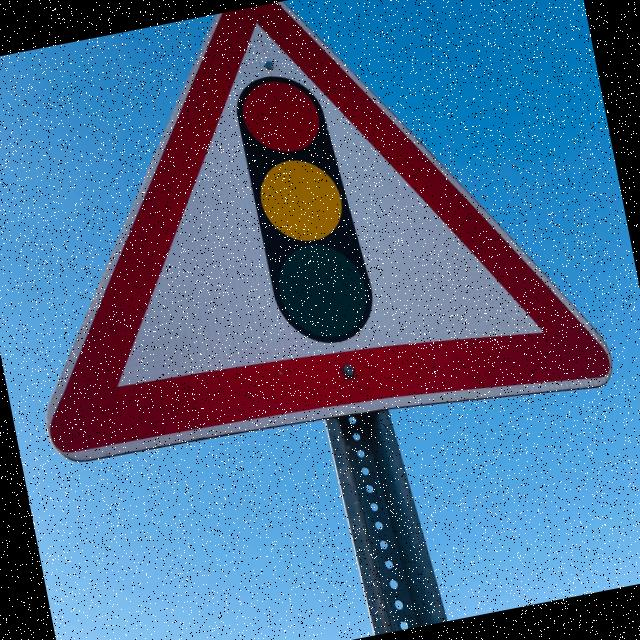light_traffic: (0, 0, 619, 492)
